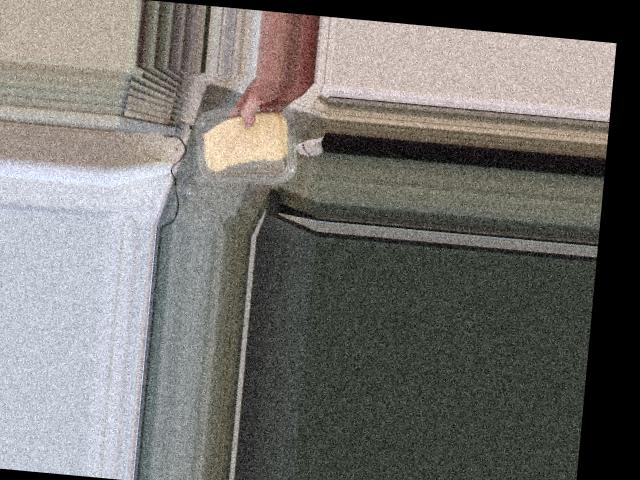cheese: (193, 100, 300, 182)
